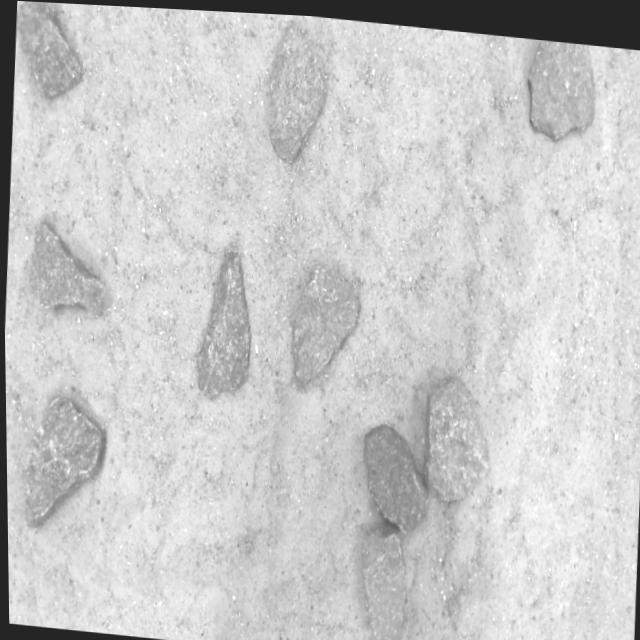rock: (21, 396, 101, 525), (290, 261, 357, 383), (421, 372, 486, 496), (196, 247, 249, 394), (269, 18, 324, 158), (362, 420, 425, 528), (528, 33, 594, 132), (29, 221, 104, 308), (16, 1, 81, 96), (360, 518, 404, 640)
